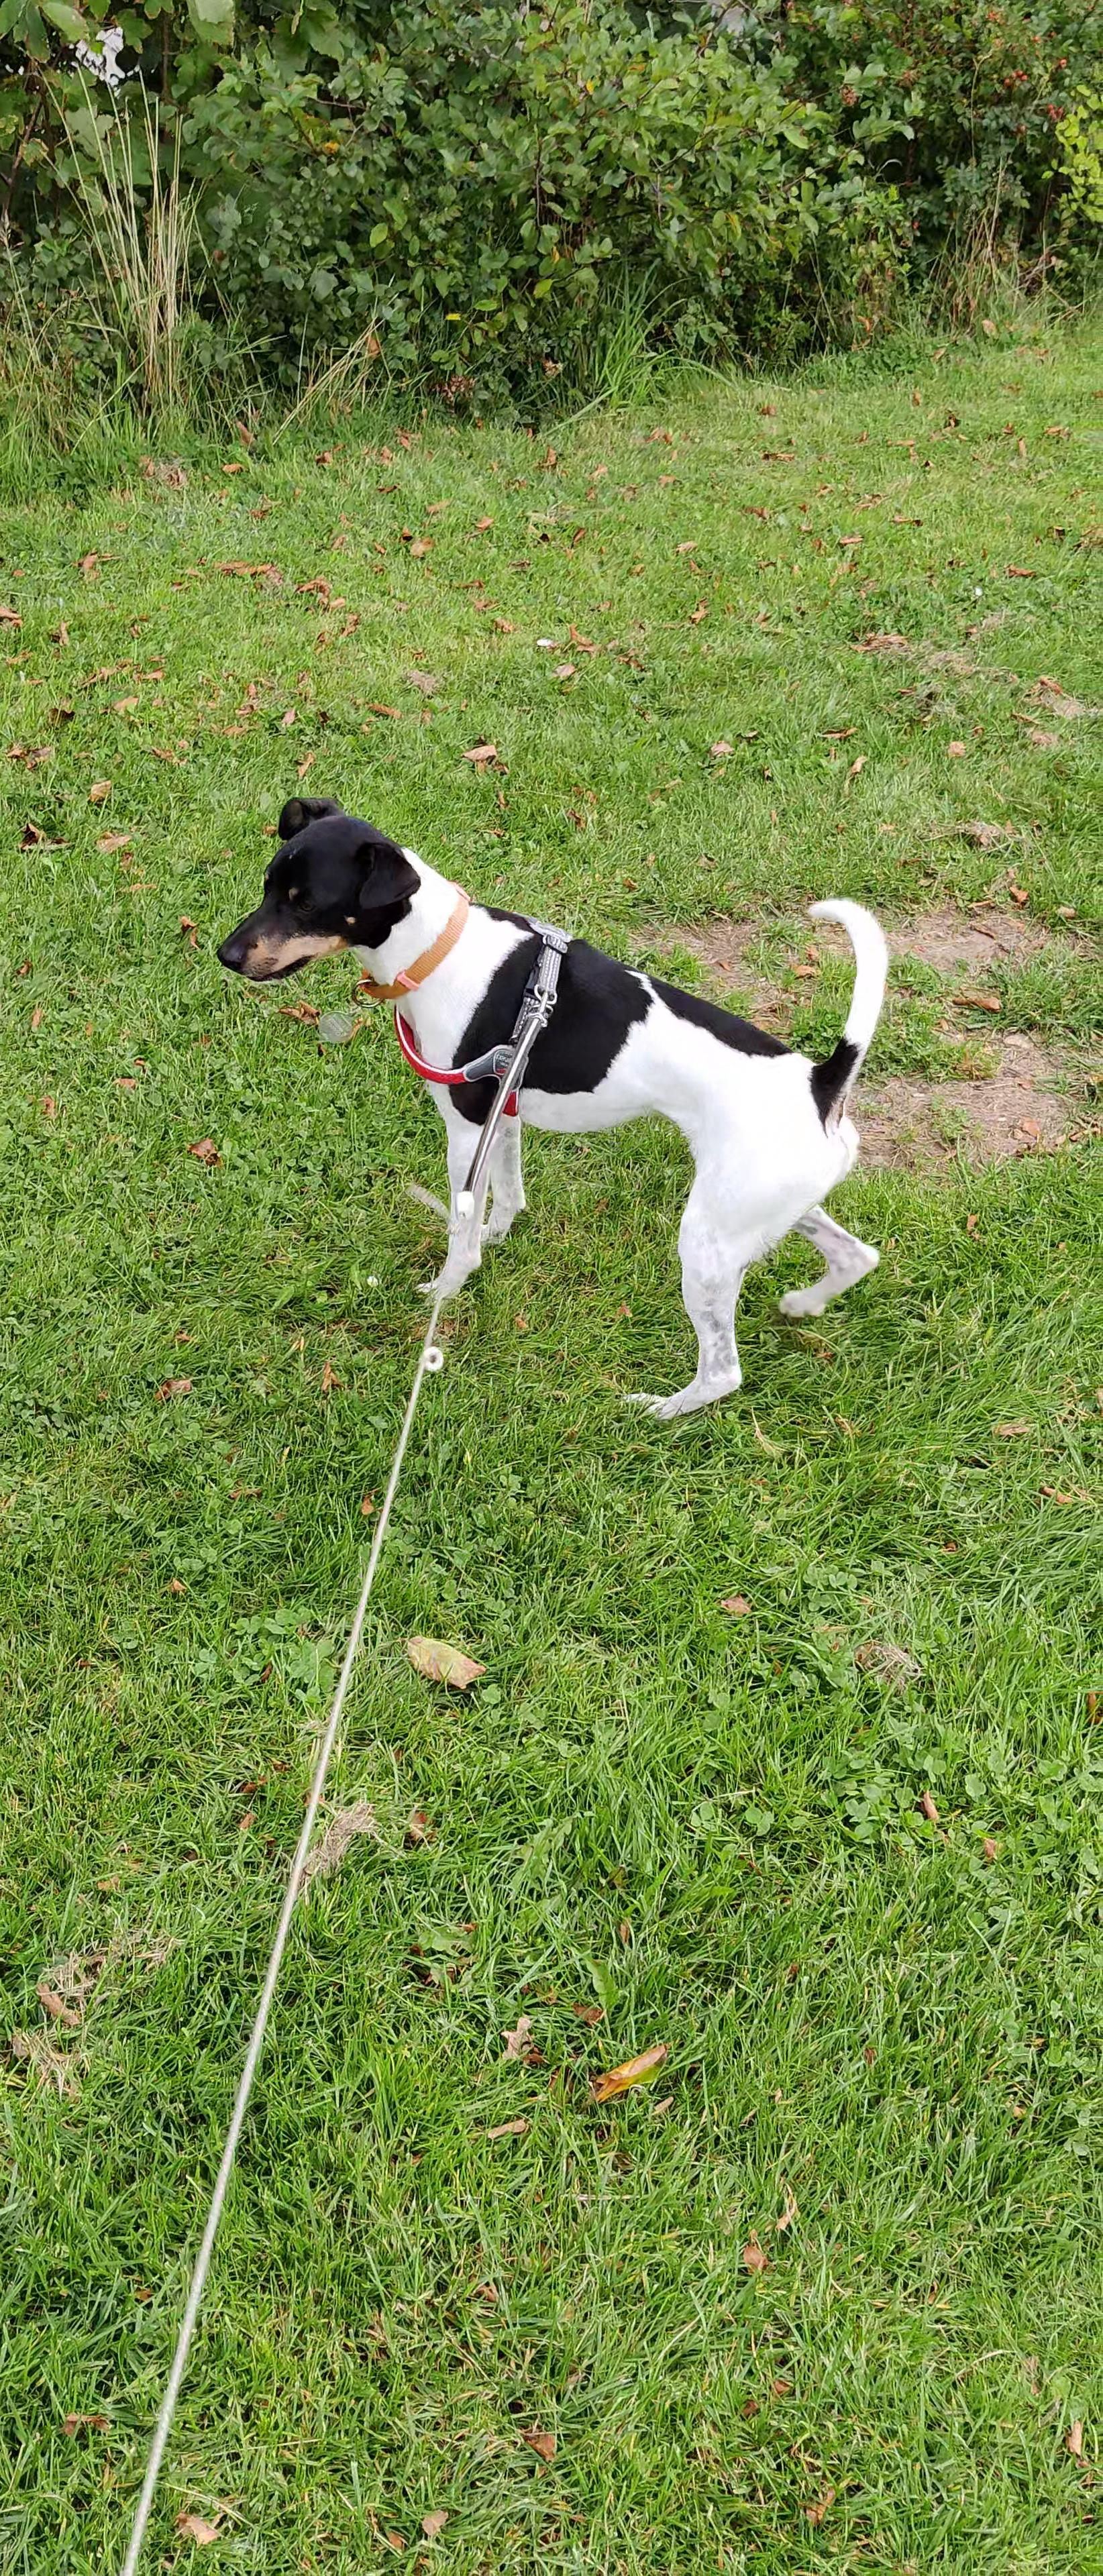Dog: (207, 787, 902, 1424)
